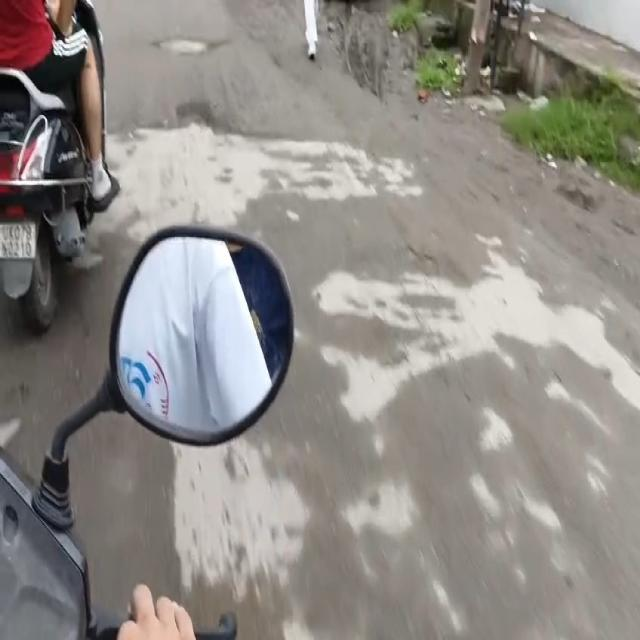road-pothole: (117, 99, 388, 220)
